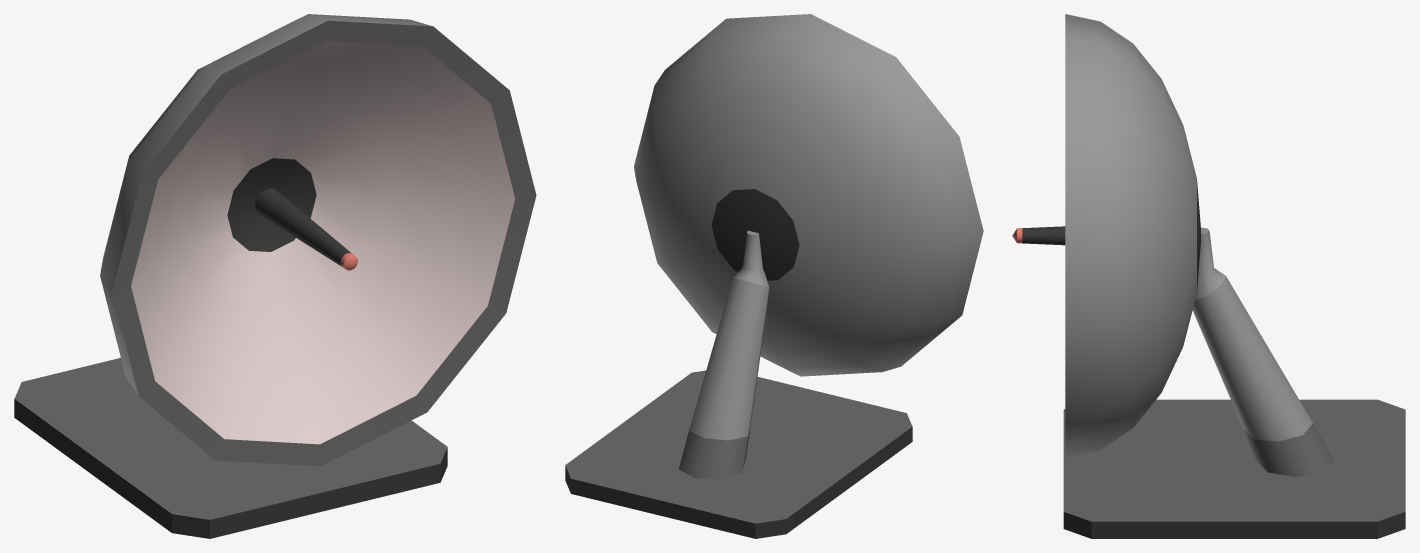
File: Building_Satellite.fbx
3 views of the same model, side by side, from view 1: azimuth 30°, elevation 25°; view 2: azimuth 150°, elevation 25°; view 3: azimuth 270°, elevation 25° (orthographic). The views are drawn at different scales.
Visible parts, largest first — view 1: Building_Satellite_Dish, Building_Satellite; view 2: Building_Satellite_Dish, Building_Satellite; view 3: Building_Satellite, Building_Satellite_Dish.
Boxes of the visible parts, box(x1,y1,x2,y2) form: Building_Satellite_Dish: box(100, 14, 536, 466); Building_Satellite: box(14, 358, 447, 538); Building_Satellite_Dish: box(634, 14, 983, 376); Building_Satellite: box(565, 230, 912, 538); Building_Satellite: box(1063, 227, 1405, 538); Building_Satellite_Dish: box(1012, 14, 1200, 457).
Size of the model in its own units: 157 by 173 by 139.
